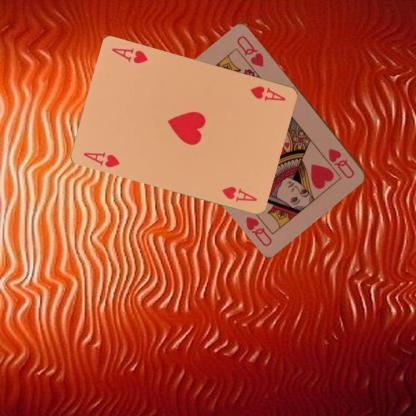Ah: (80, 149, 122, 169), (247, 82, 288, 102)
Qh: (326, 144, 356, 180)
